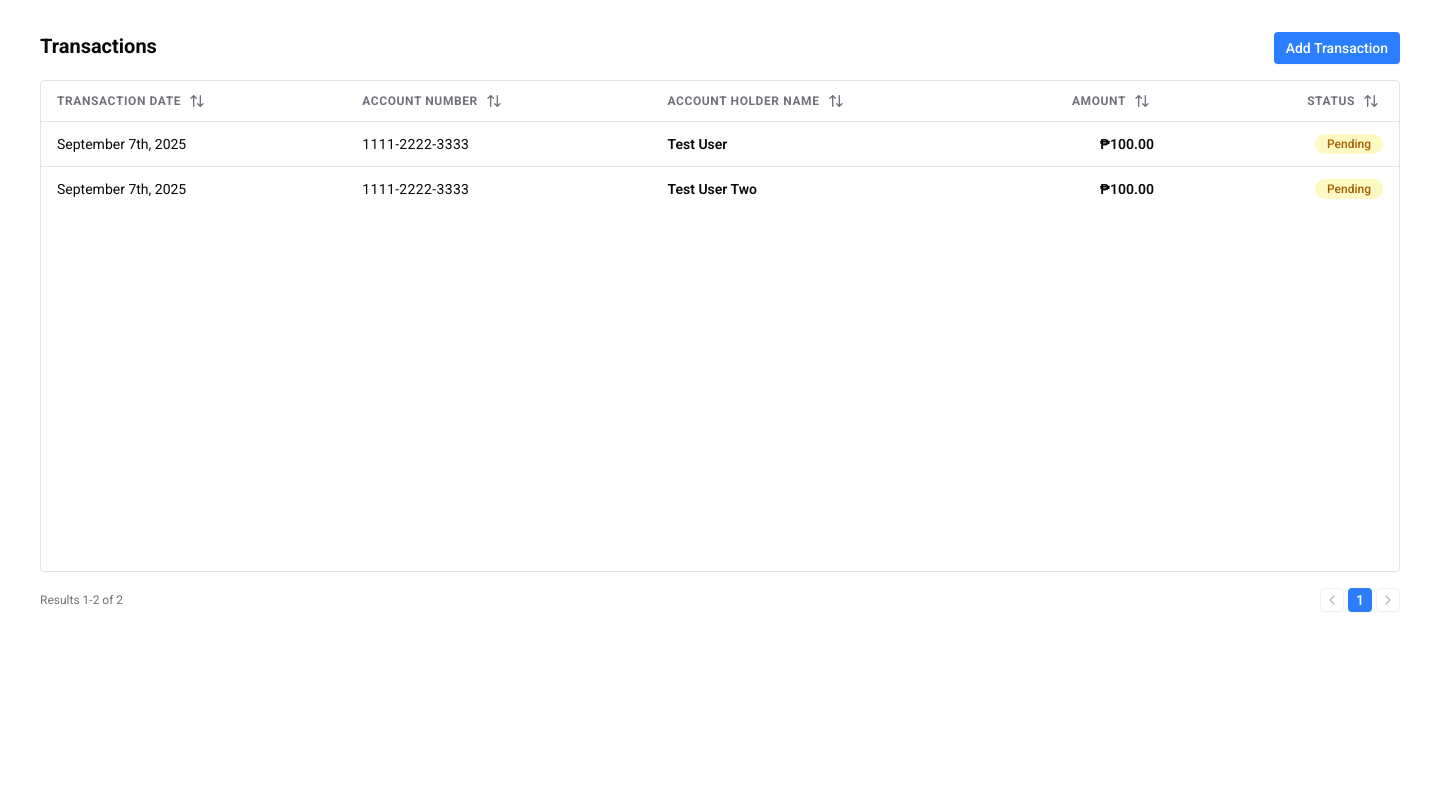
Test: Transactions page tests with empty state and errors › should show an error message if POST request fails
Click the button "Add Transaction". click: (1337, 48)
box: x1=1274 y1=32 x2=1400 y2=64
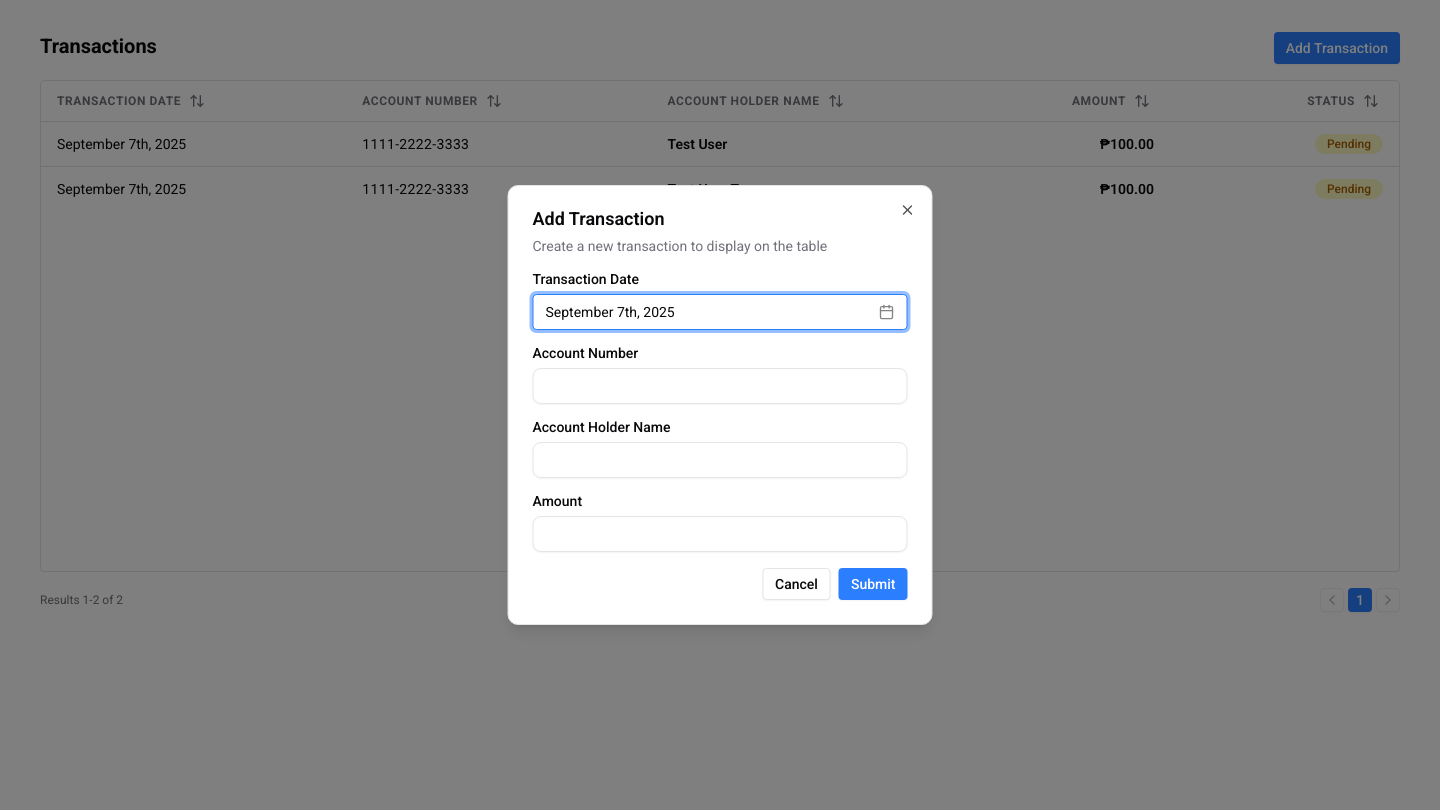
Type "111122223333" into the field labelled "Account Number". click: (720, 386)
box: x1=532 y1=368 x2=908 y2=404
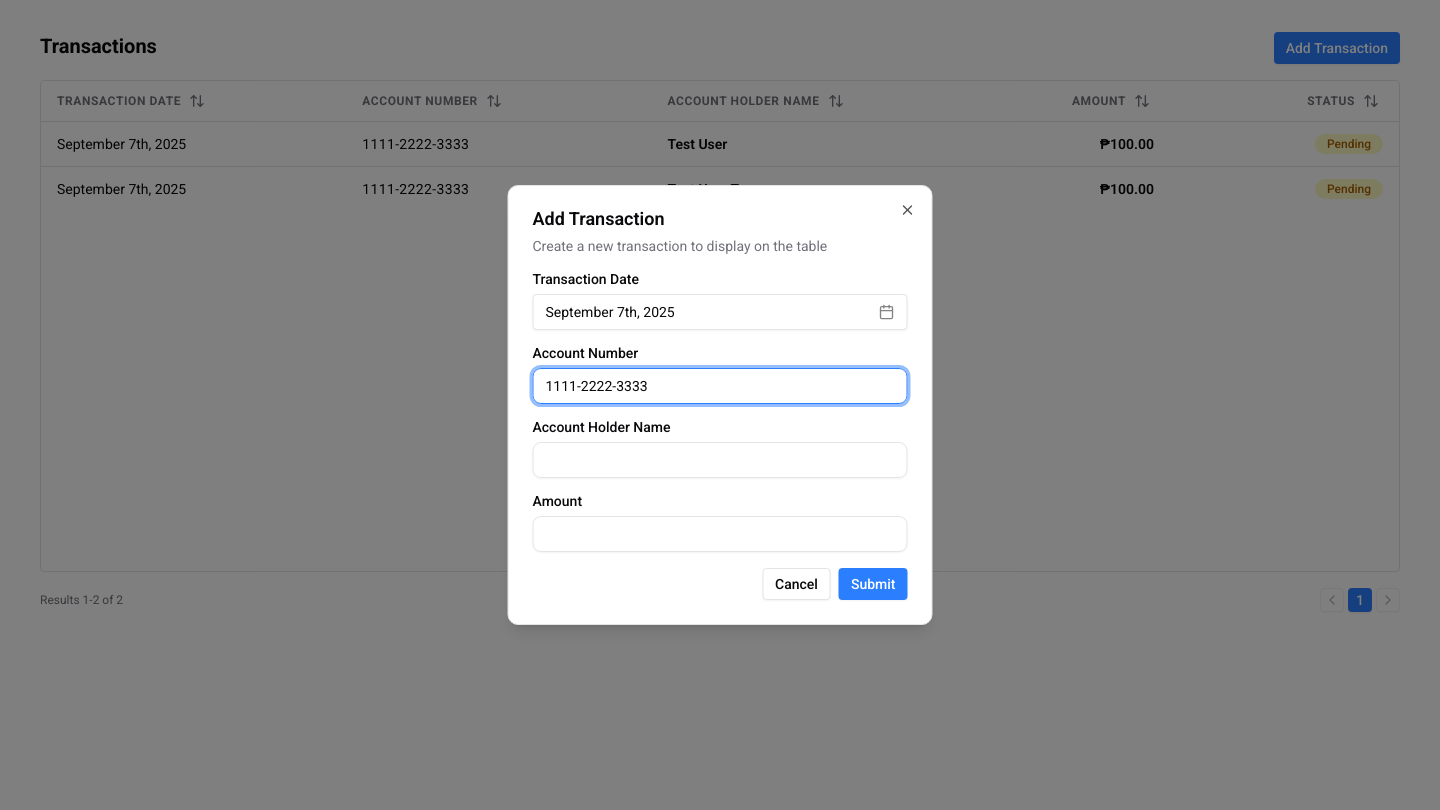
Type "Fail User" into the field labelled "Account Holder Name". click: (720, 460)
box: x1=532 y1=442 x2=908 y2=478
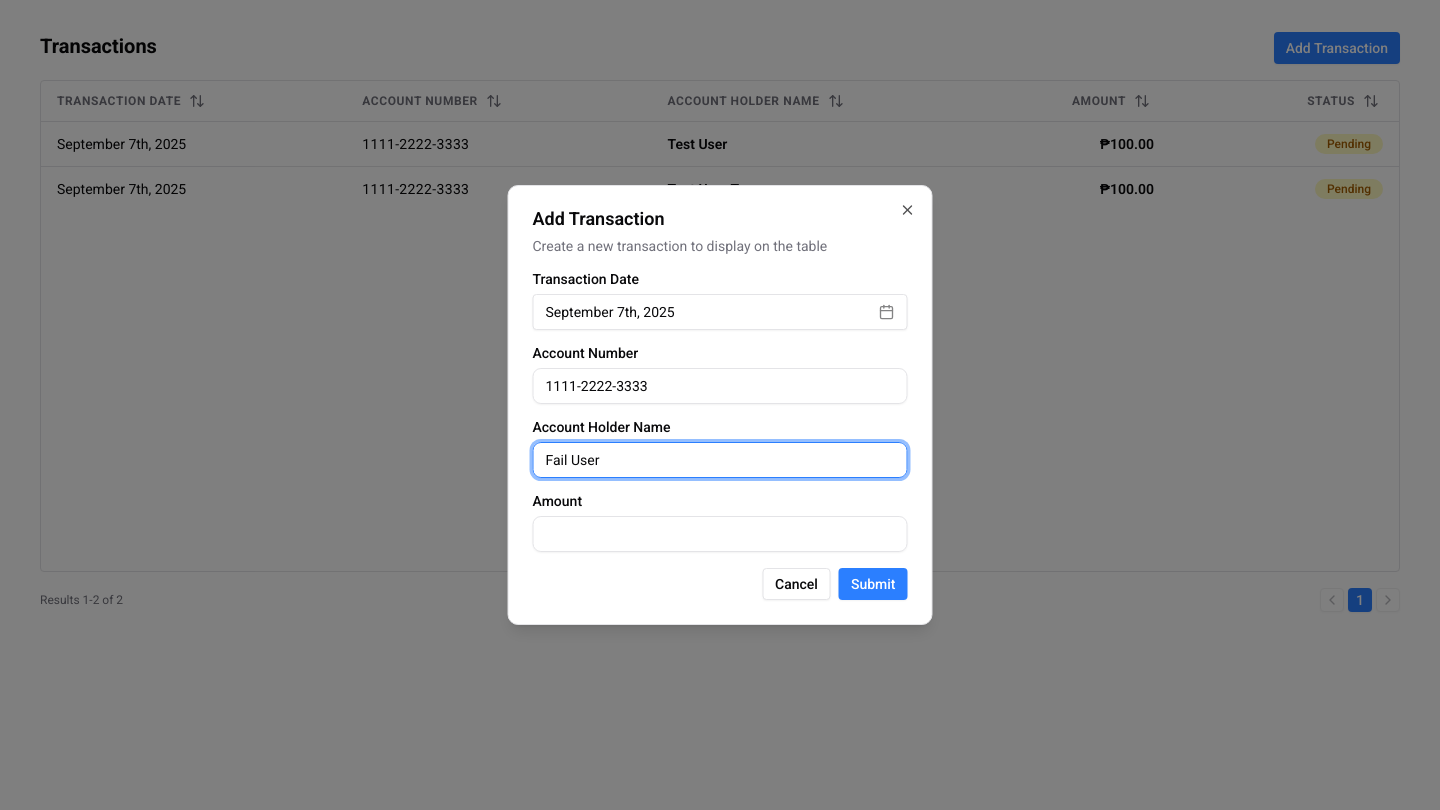
Type "100" into the number field labelled "Amount". click: (720, 534)
box: x1=532 y1=516 x2=908 y2=552
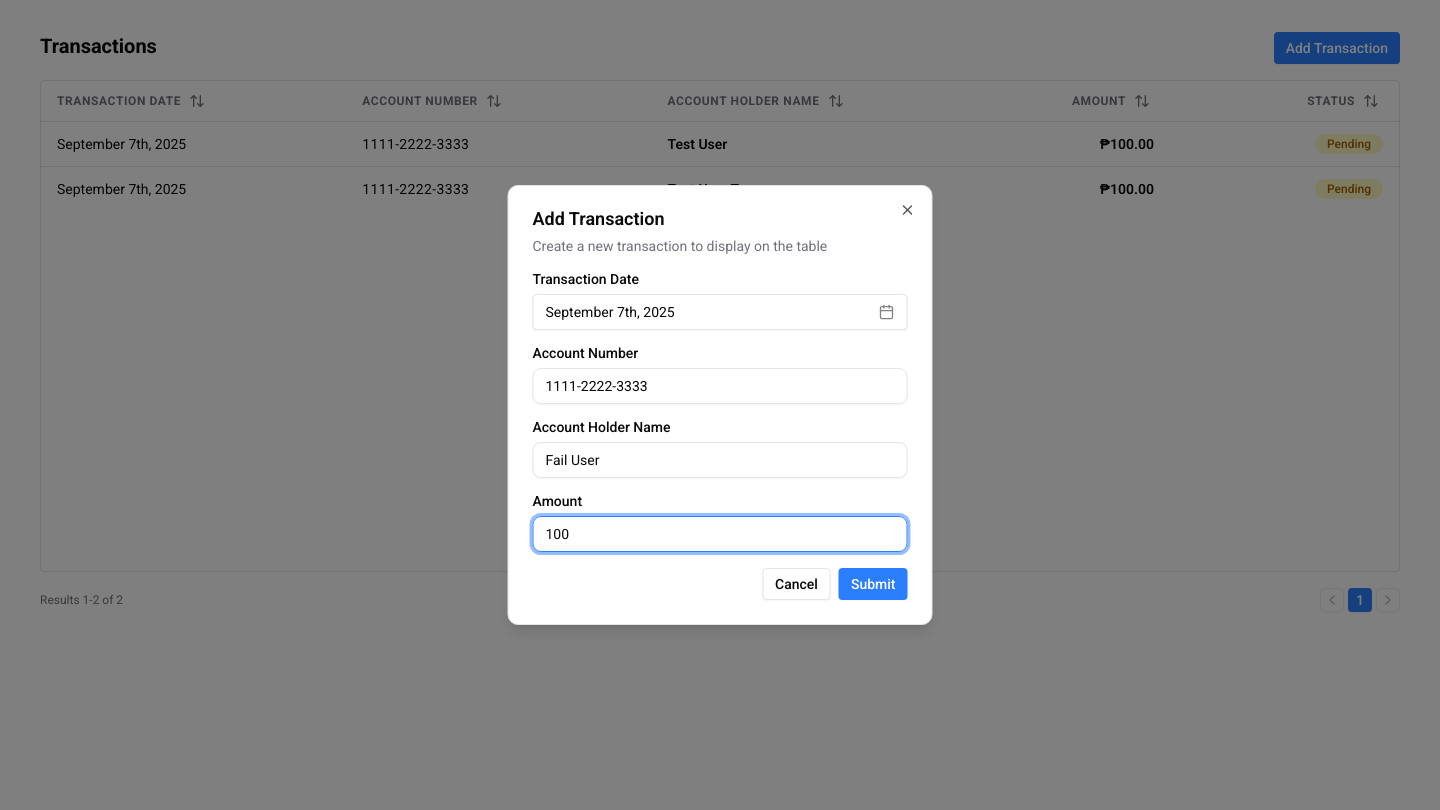
Click the button "Submit". click: (873, 584)
box: x1=839 y1=568 x2=908 y2=600
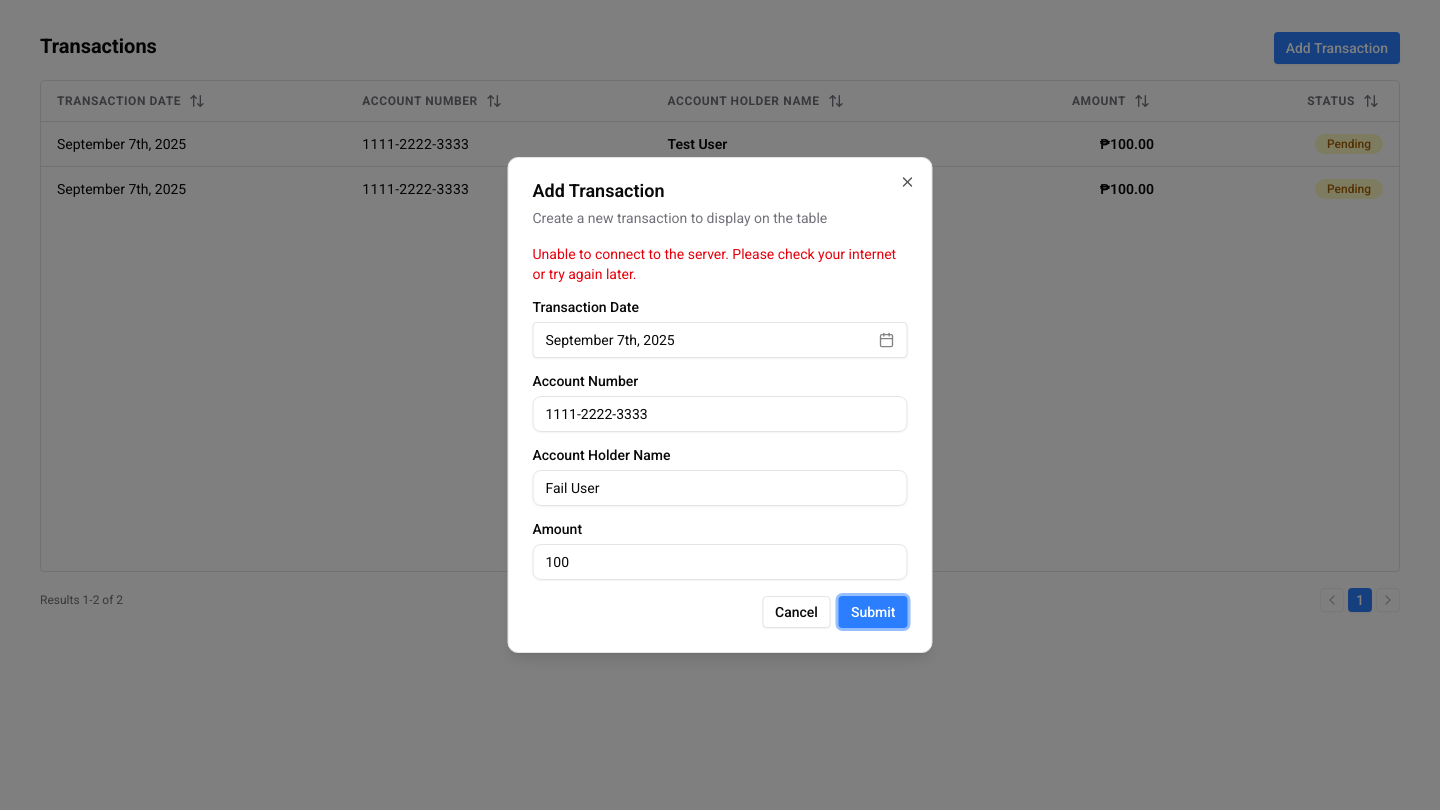
Result: the text "Unable to connect to the server" is shown at x1=532 y1=246 x2=896 y2=282
